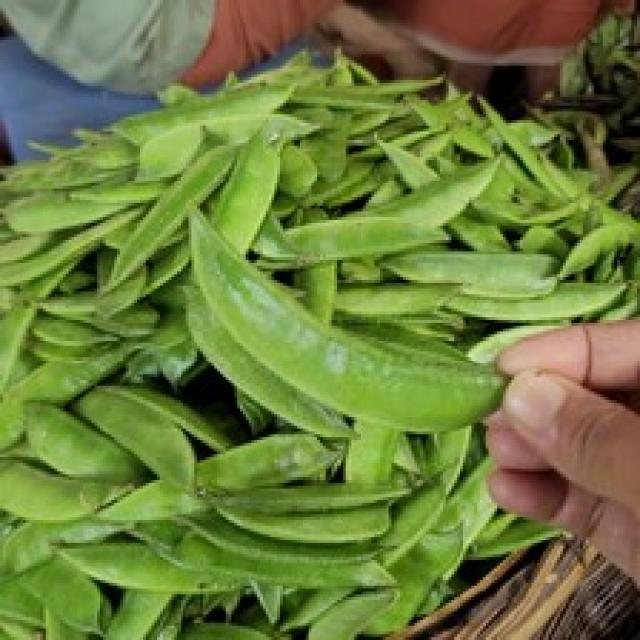Bean: (0, 43, 637, 637)
